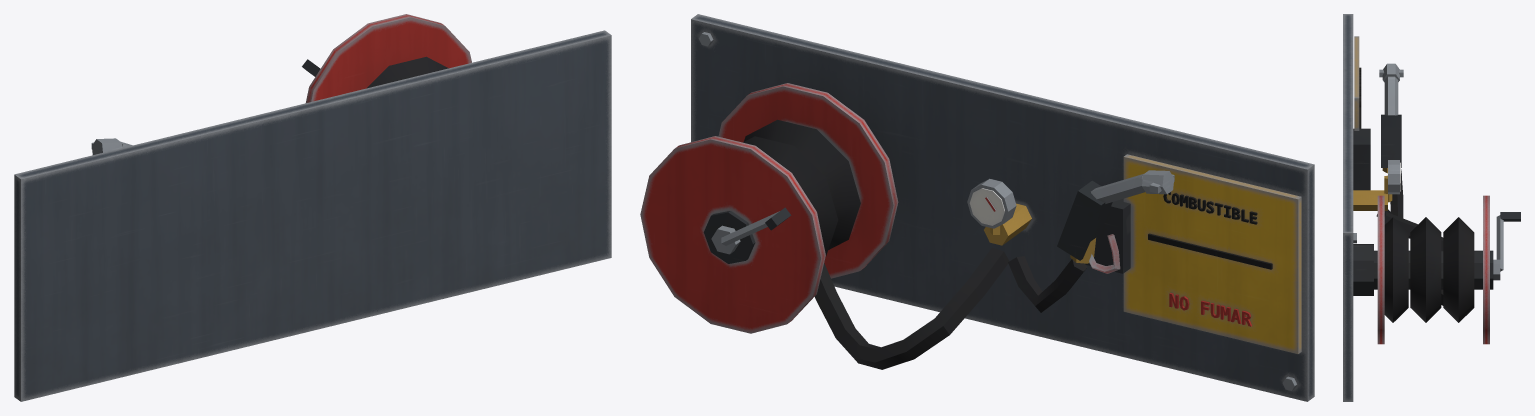
The model's file is cable_combustible.fbx.
3 views of the same model, side by side, from view 1: azimuth 30°, elevation 25°; view 2: azimuth 150°, elevation 25°; view 3: azimuth 270°, elevation 25° (orthographic). The views are drawn at different scales.
Visible parts, largest first — view 1: cable_combustible, cable_combustible_carrete; view 2: cable_combustible, cable_combustible_carrete; view 3: cable_combustible_carrete, cable_combustible.
Boxes of the visible parts, x1,y1,x2,y2 form: cable_combustible: [14, 30, 611, 401]; cable_combustible_carrete: [302, 14, 471, 102]; cable_combustible: [691, 14, 1314, 401]; cable_combustible_carrete: [640, 83, 898, 333]; cable_combustible_carrete: [1374, 195, 1520, 344]; cable_combustible: [1343, 14, 1443, 401].
Bounding box in the file's own units: 3 × 1.08 × 1.03.
Materials: 1 (1 with a texture image).
